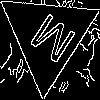M: (22, 11, 78, 73)
